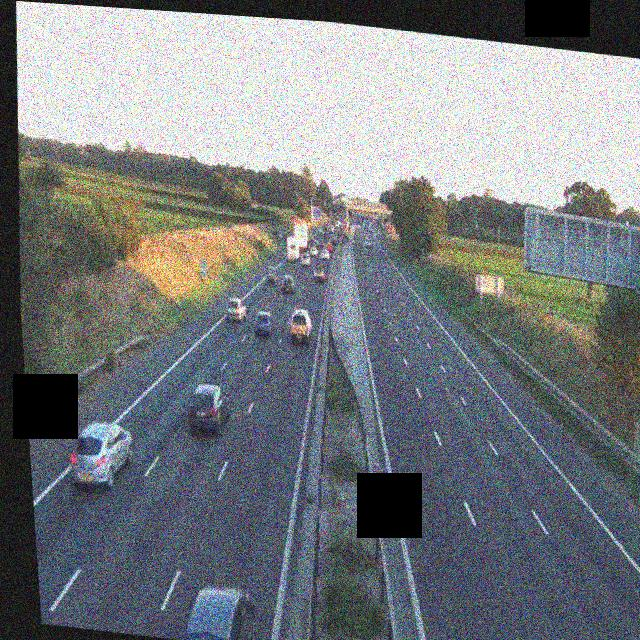car: (67, 419, 136, 493), (182, 581, 260, 640), (186, 382, 233, 437), (289, 308, 313, 344), (253, 309, 276, 338), (224, 297, 247, 323), (282, 274, 296, 294), (264, 266, 278, 284), (312, 264, 326, 282), (300, 252, 312, 268), (321, 247, 331, 260), (326, 240, 335, 253)
truck: (284, 221, 309, 263)
